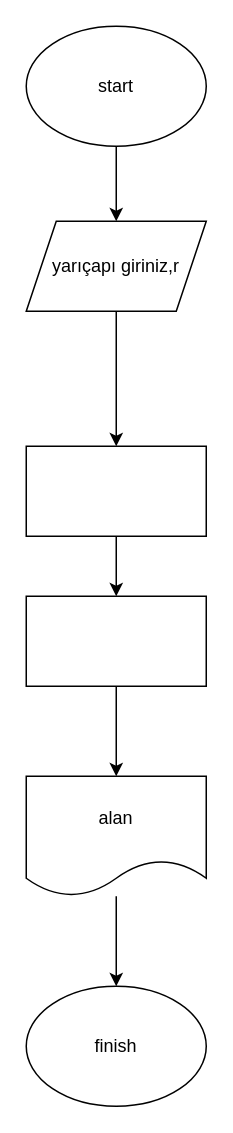
Image size: 233x1133. Some labels were removed from this diagram. Each missing label, with the centre of its shape:
alan=pi*r^2: point 115,640
pi=3.14: point 115,490
